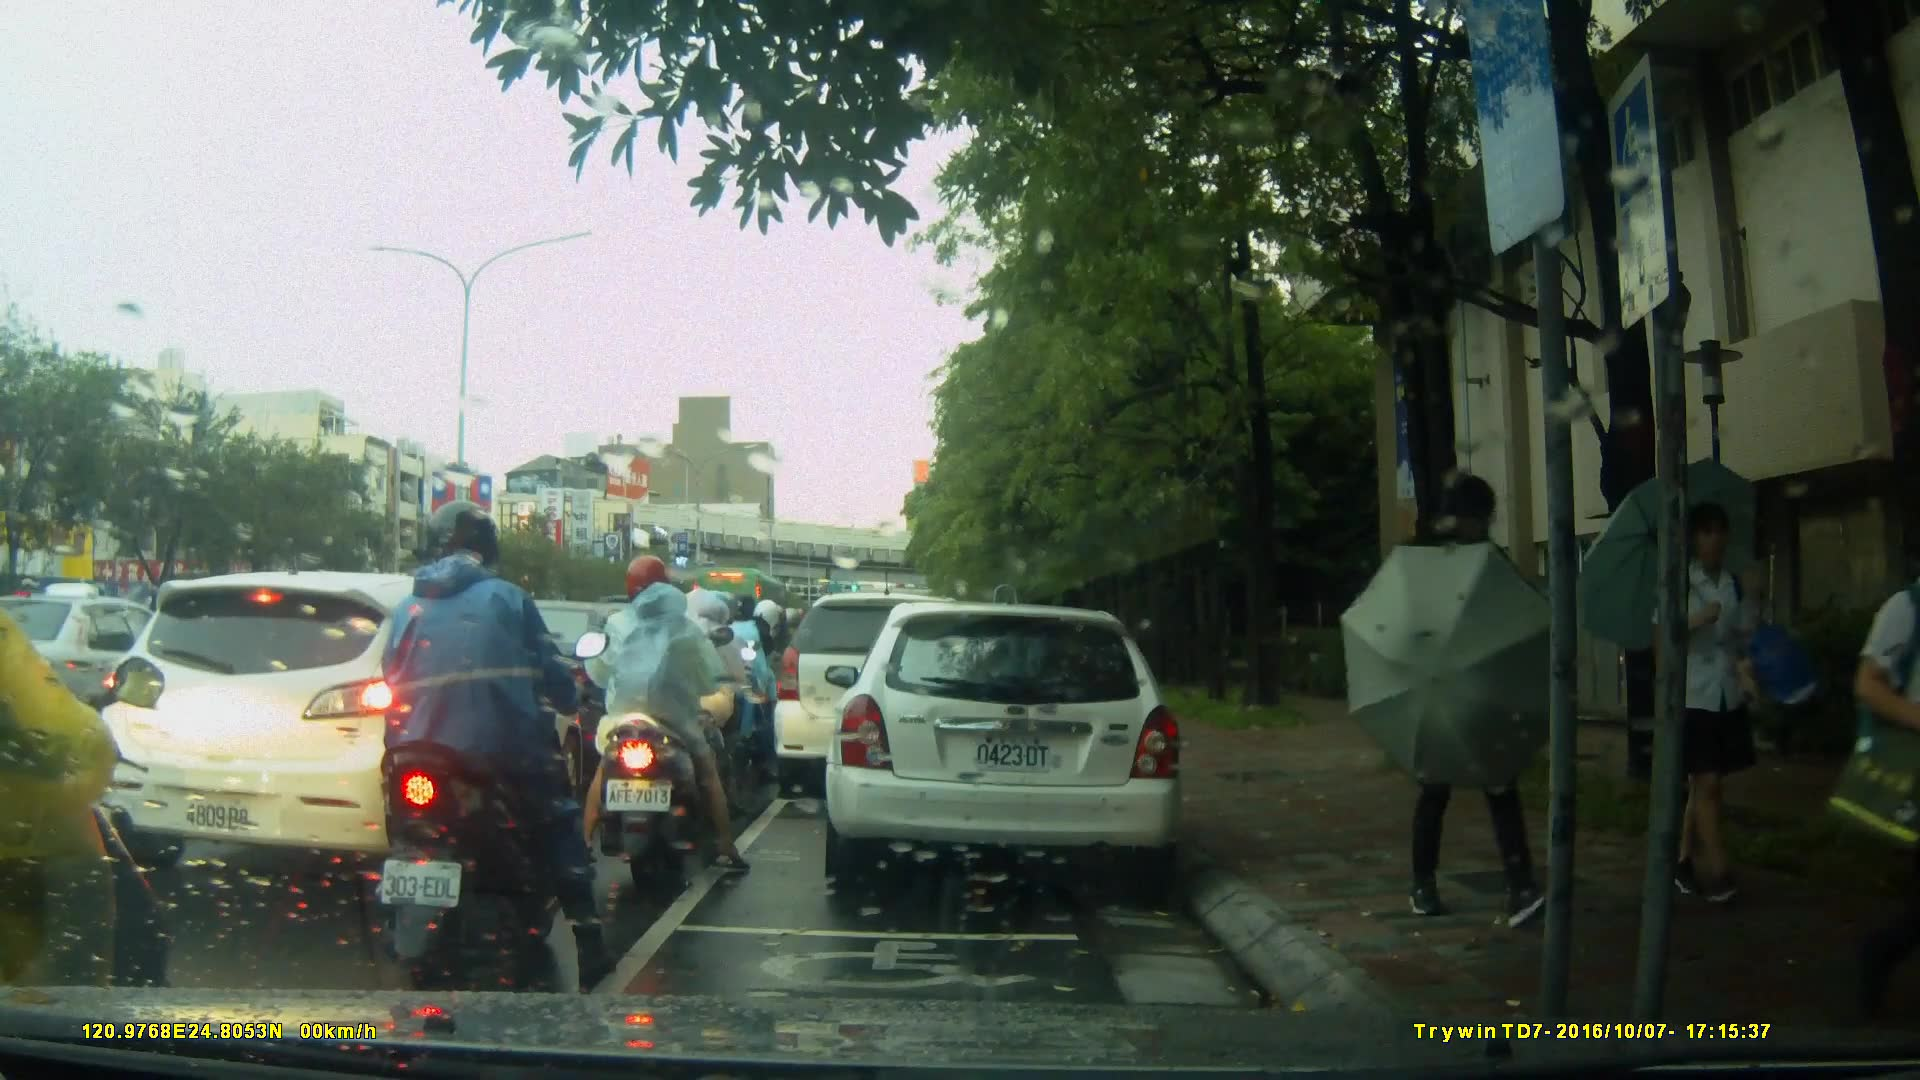pedestrian: (1432, 460, 1575, 945), (1650, 495, 1774, 925), (1823, 509, 1920, 1027)
rider: (374, 504, 613, 975), (1, 455, 179, 1080), (589, 560, 748, 881), (641, 580, 764, 823), (714, 594, 788, 768)
vehicle: (99, 570, 617, 885), (822, 604, 1188, 883), (774, 595, 995, 802), (18, 595, 208, 732)
